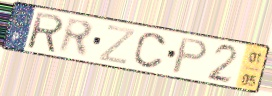2: (206, 43, 242, 86)
C: (131, 31, 169, 71)
P: (169, 35, 211, 76)
R: (57, 15, 95, 60), (27, 10, 65, 55)
Z: (96, 23, 138, 67)
